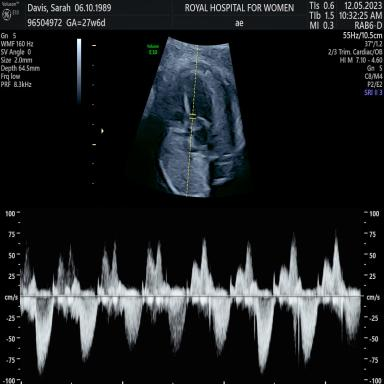Ultrasound-Waves: (25, 214, 359, 384)
